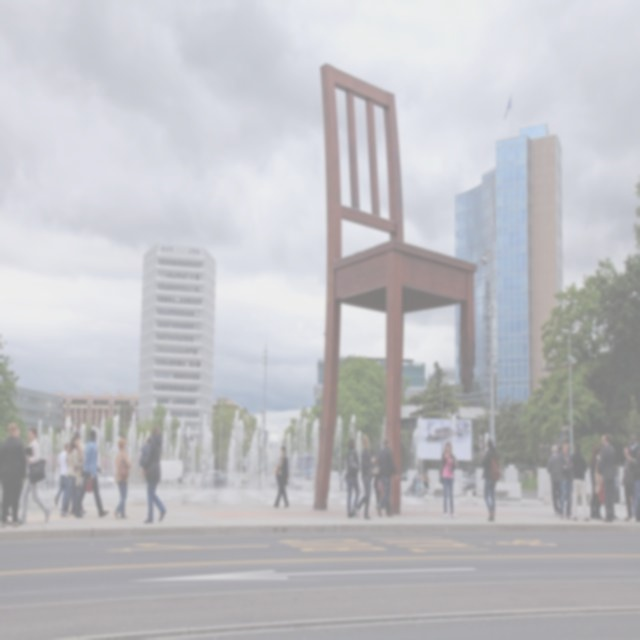pessoa: (15, 427, 53, 525), (73, 429, 109, 520), (0, 422, 28, 529), (138, 423, 166, 525), (58, 434, 88, 518), (354, 434, 376, 520), (376, 436, 398, 518), (570, 441, 591, 522), (480, 438, 500, 522), (112, 438, 132, 521), (598, 435, 616, 524), (438, 441, 458, 518), (556, 440, 574, 520), (620, 446, 638, 522), (346, 438, 362, 520), (271, 446, 290, 508), (546, 445, 562, 517), (54, 442, 70, 508), (590, 446, 604, 521), (73, 430, 85, 514), (628, 450, 640, 524), (411, 460, 432, 500), (372, 452, 384, 512), (0, 501, 24, 527), (628, 432, 640, 460), (340, 464, 349, 492), (608, 434, 616, 447), (612, 512, 620, 522), (15, 426, 21, 438)
